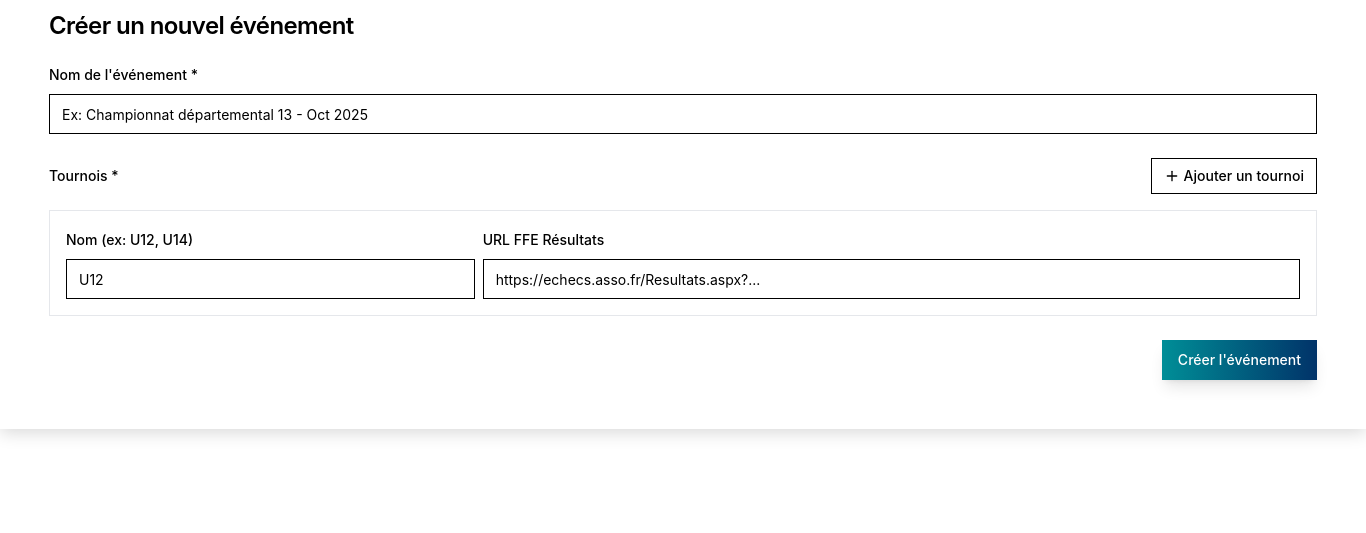
Test: EventForm › Tournament Validation › shows error when no tournaments have data
In the field with placeholder "Ex: Championnat départemental 13 - Oct 2025": coordinates (683, 114) [49,94,1317,134], type "Test Event"
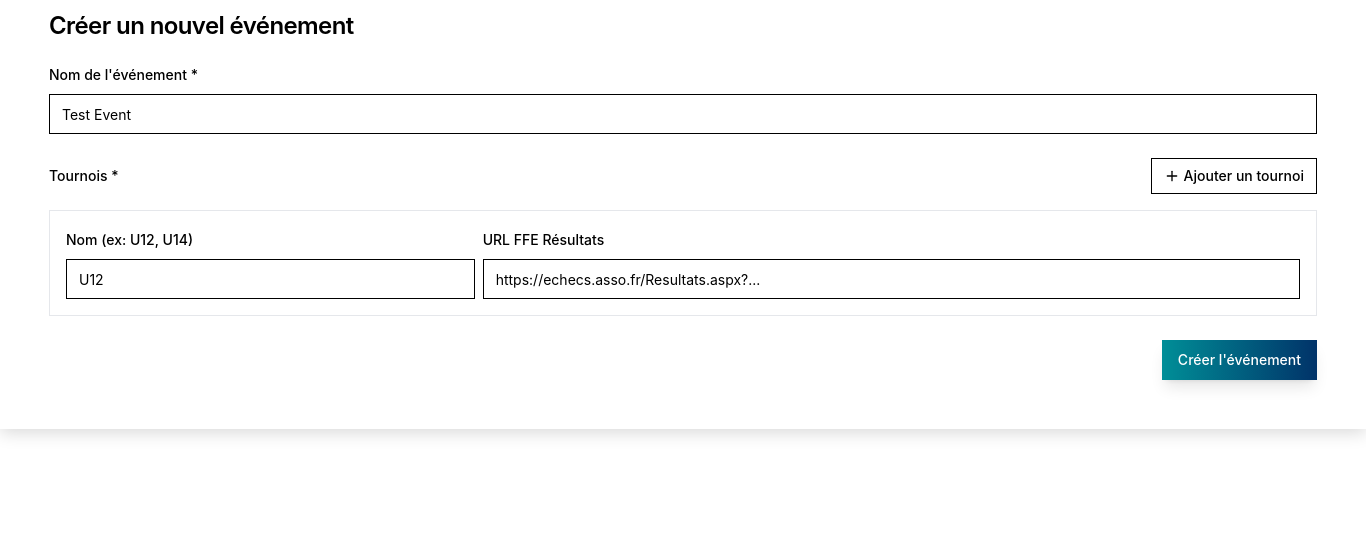
Click the button "Créer l'événement": coordinates (1239, 360) [1162,340,1317,380]
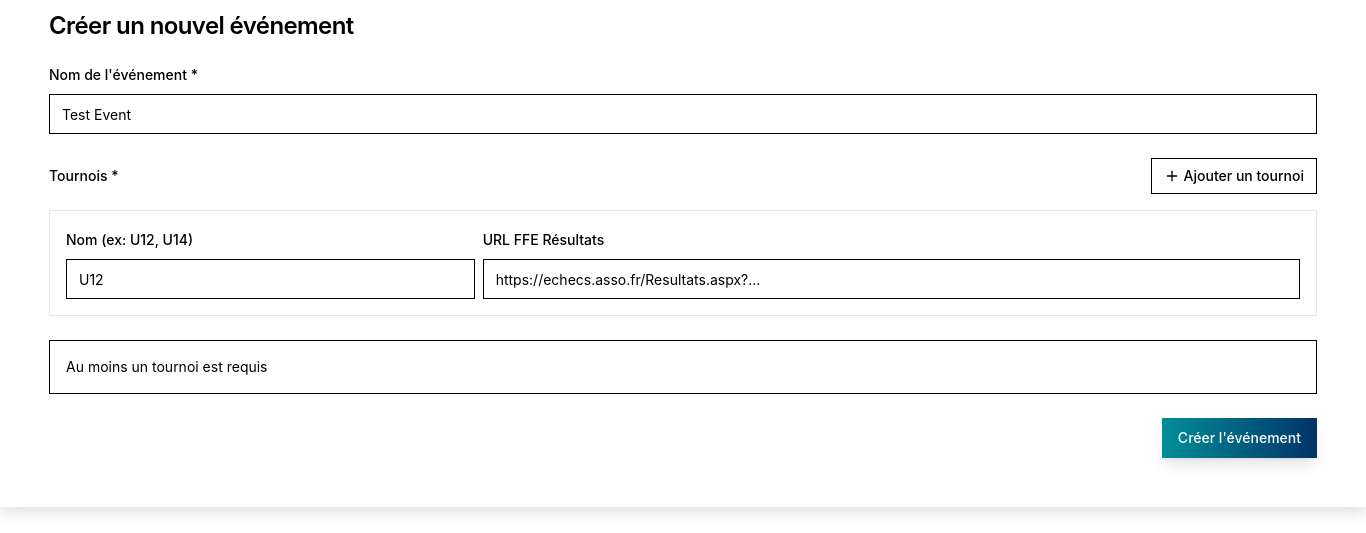
expect the text "Au moins un tournoi est requis" is shown: met, box [66,358,268,375]
